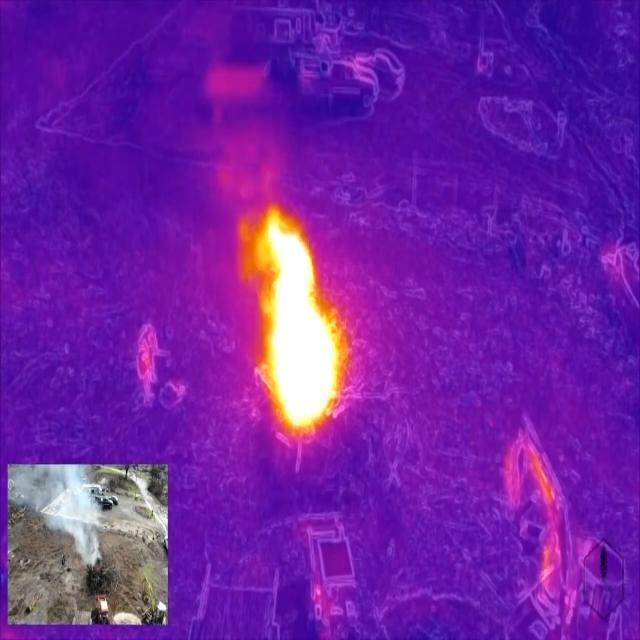fire: (255, 204, 344, 437)
